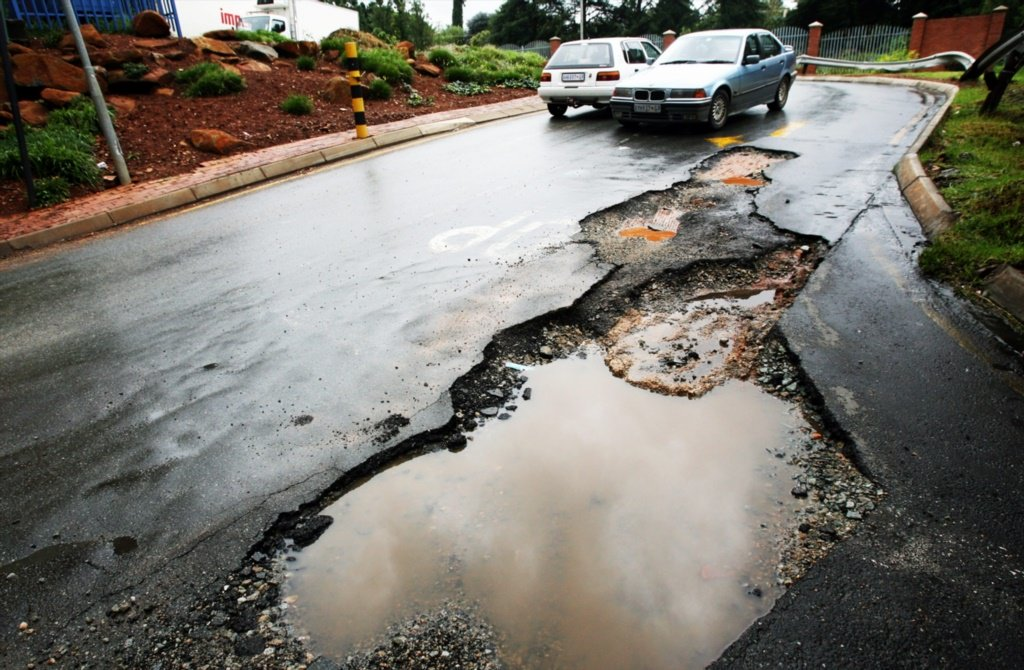pothole: (212, 135, 907, 661)
